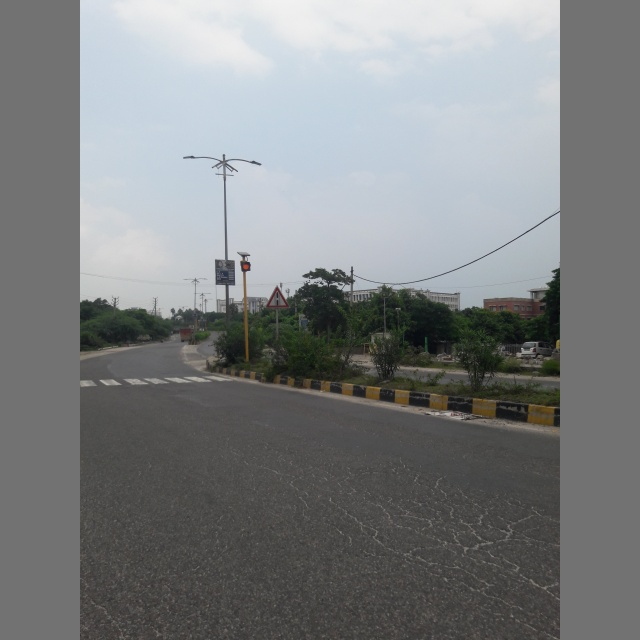Gap_in_Median: (263, 280, 293, 314)
